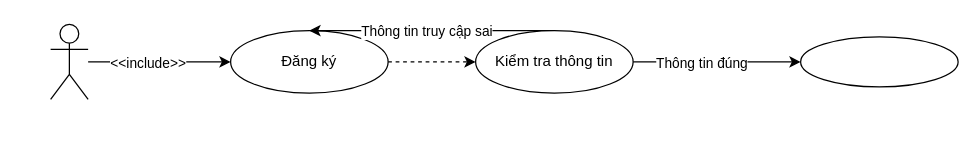
The diagram is 980 pixels wide and 148 high, and some of its shapes have lost their labels. The shapes that lost their labels are listed below. From the top down, each one's box as (x1, y1, x2, y2) in pixels, then its label:
(49, 23, 88, 99): Chủ cửa hàng
(799, 36, 958, 87): Truy cập hệ thống
